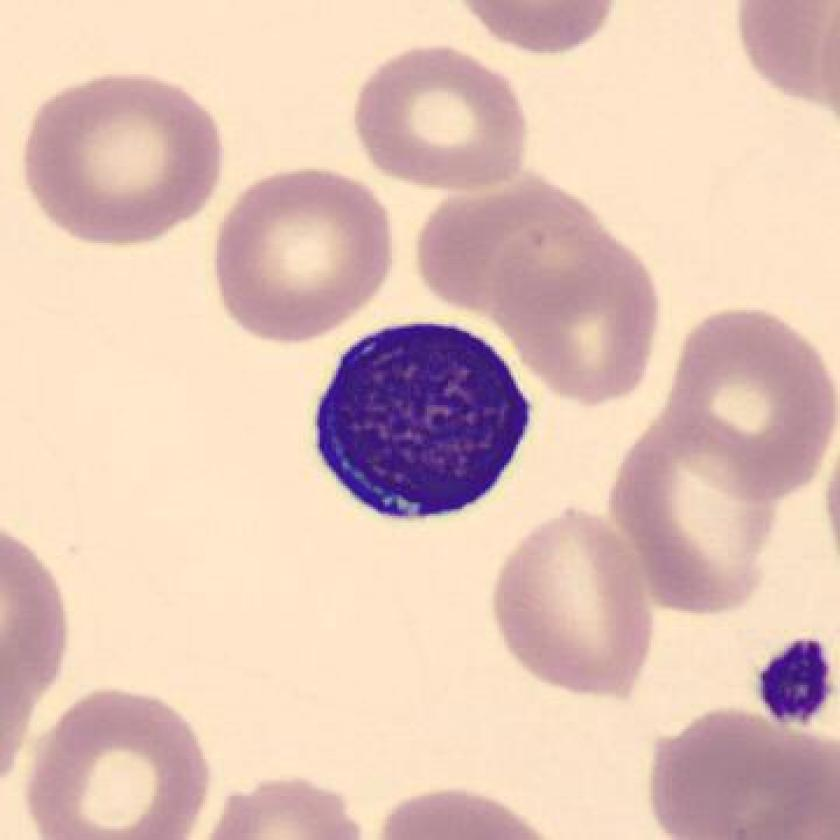lymphocyte: (295, 302, 547, 549)
